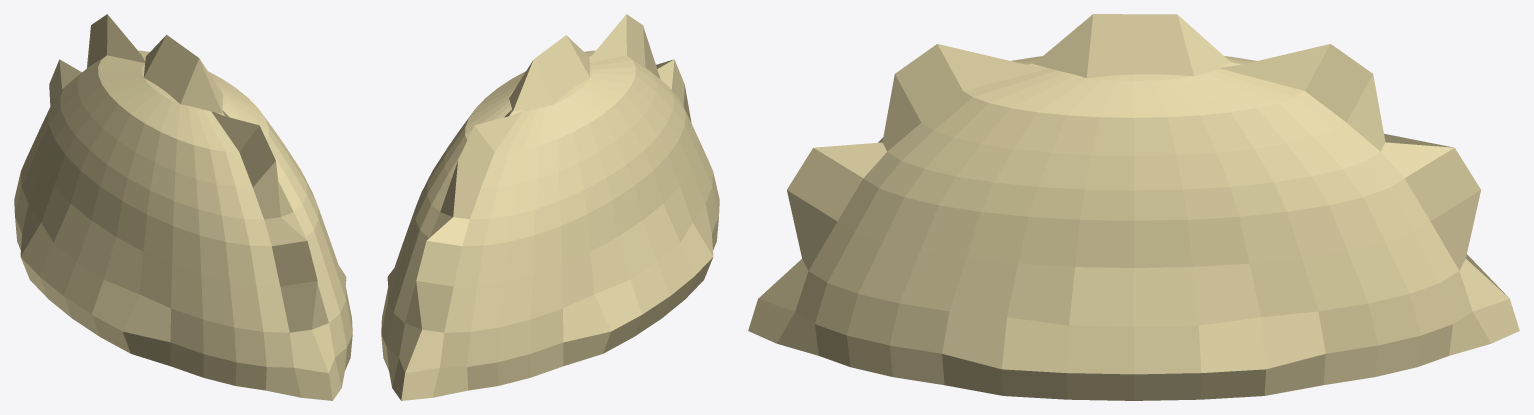
Rendered from dumpling.fbx.
3 renders of one model, left to right at view 1: azimuth 30°, elevation 25°; view 2: azimuth 150°, elevation 25°; view 3: azimuth 270°, elevation 25°, orthographic. The views are drawn at different scales.
Visible parts, largest first — view 1: Cylinder; view 2: Cylinder; view 3: Cylinder.
Boxes of the visible parts, <box> form: Cylinder: <box>14,14,352,400</box>; Cylinder: <box>381,14,719,400</box>; Cylinder: <box>748,14,1519,400</box>.
Size of the model in its own units: 159 by 156 by 344.
